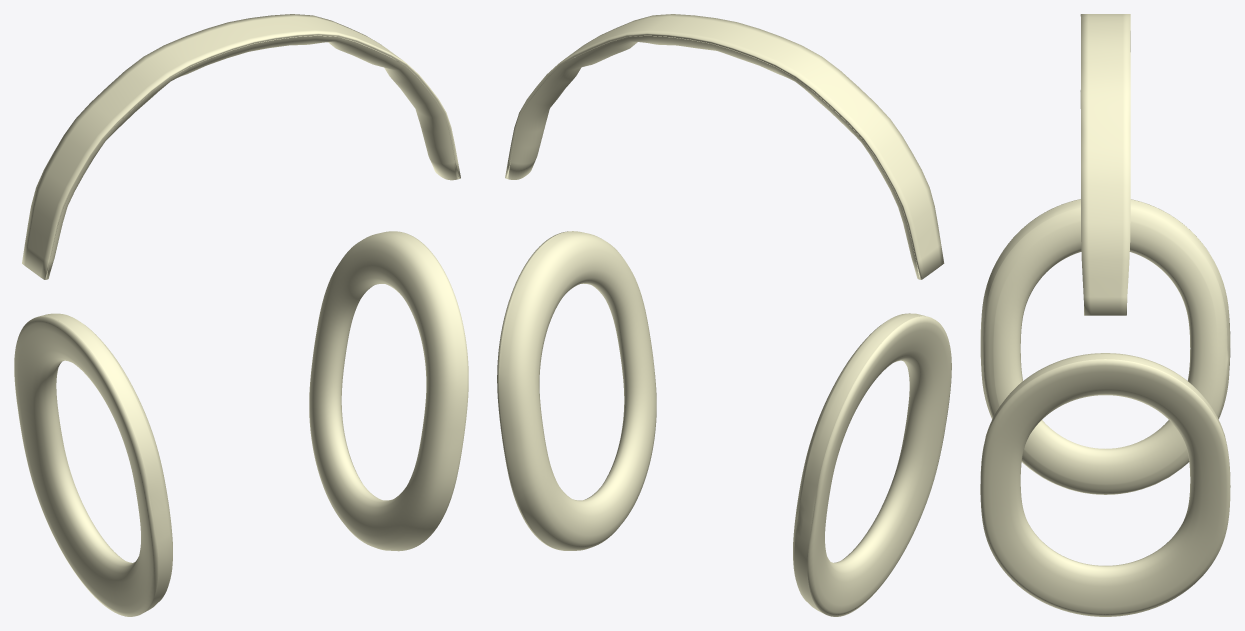
The model's file is noiréComfortCups.glb.
The picture shows the model from 3 angles, left to right: view 1: azimuth 30°, elevation 25°; view 2: azimuth 150°, elevation 25°; view 3: azimuth 270°, elevation 25°; orthographic projection. The views are drawn at different scales.
Visible parts, largest first — view 1: Circle.020, Cube.004; view 2: Circle.020, Cube.004; view 3: Circle.020, Cube.004.
Part boxes in pixels (left/top/right/bottom): Circle.020: left=14, top=231, right=468, bottom=616; Cube.004: left=22, top=14, right=460, bottom=279; Circle.020: left=497, top=231, right=951, bottom=616; Cube.004: left=505, top=14, right=944, bottom=279; Circle.020: left=980, top=199, right=1230, bottom=616; Cube.004: left=1080, top=14, right=1130, bottom=315.
Size of the model in its own units: 3.55 by 4.42 by 1.95.
